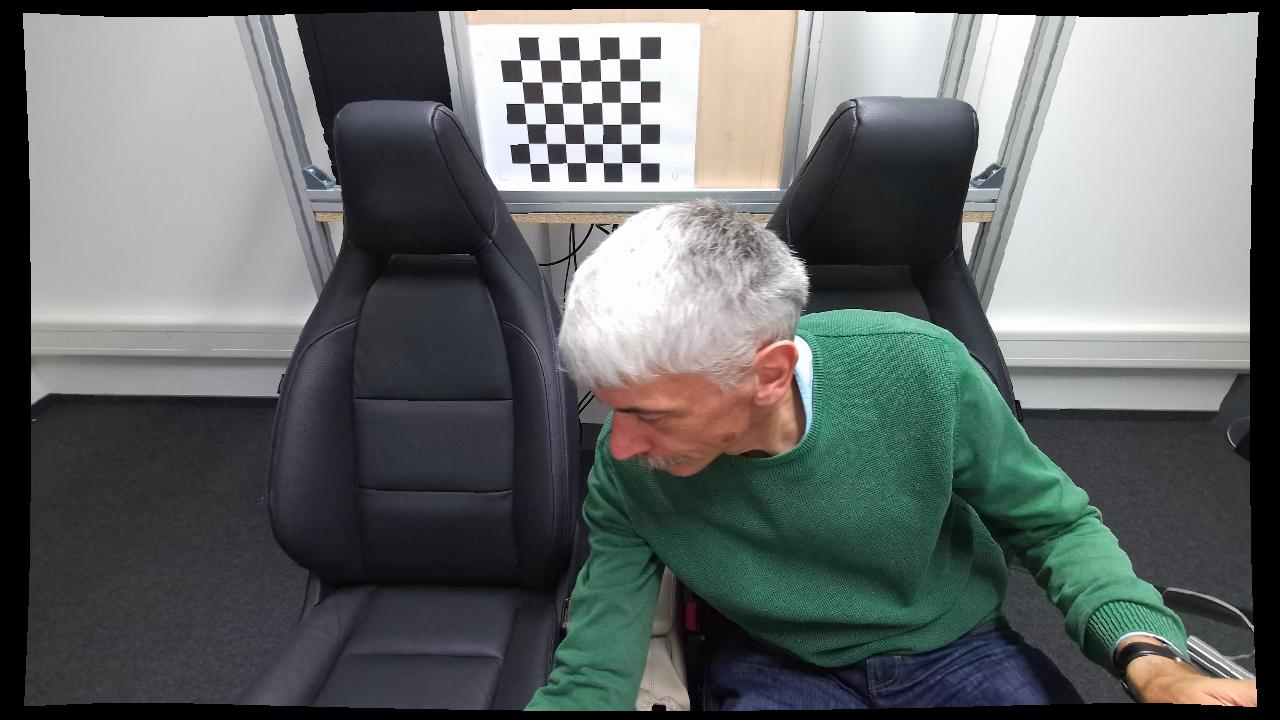Distracted: (516, 199, 1250, 709)
